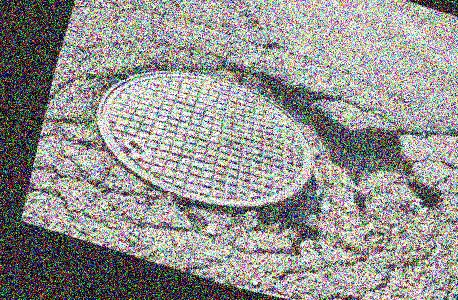pothole: (202, 60, 458, 293)
